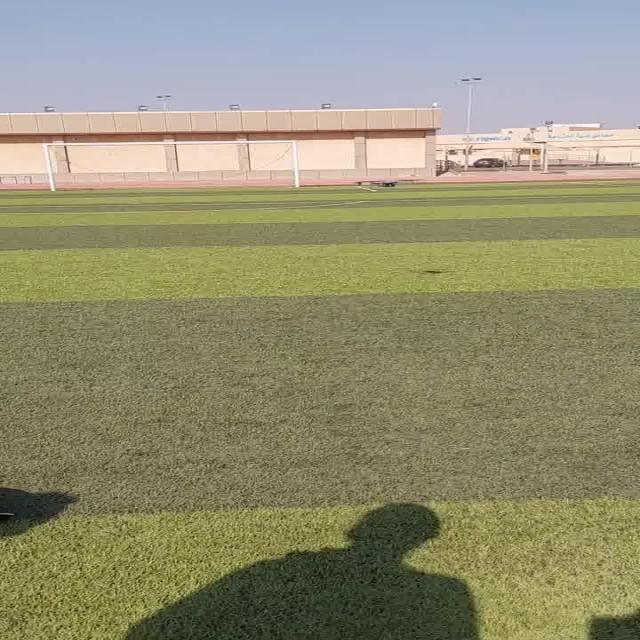drone: (342, 171, 420, 197)
